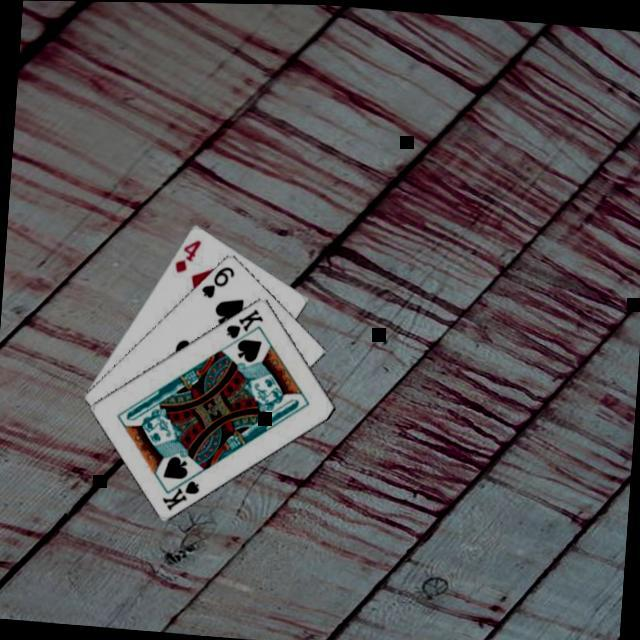4D: (168, 235, 202, 277)
6S: (196, 262, 236, 302)
KS: (156, 468, 201, 516), (220, 304, 264, 344)
